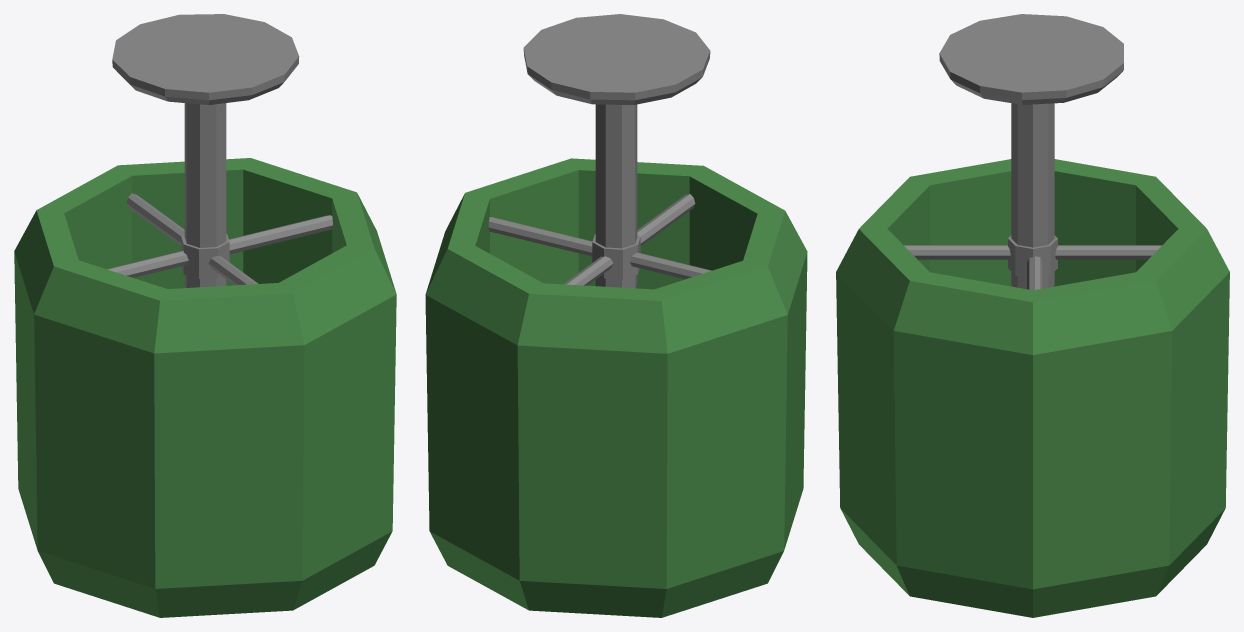
3 views of the same model, side by side, from view 1: azimuth 30°, elevation 25°; view 2: azimuth 150°, elevation 25°; view 3: azimuth 270°, elevation 25° (orthographic).
Parts seen in each view (by area): view 1: Ceiling light; view 2: Ceiling light; view 3: Ceiling light.
Part boxes in pixels (x1,y1,x2,y2): Ceiling light: [14, 14, 396, 617]; Ceiling light: [425, 14, 807, 617]; Ceiling light: [836, 14, 1229, 617].
Bounding box in the file's own units: 3.07 × 4.23 × 3.07.
